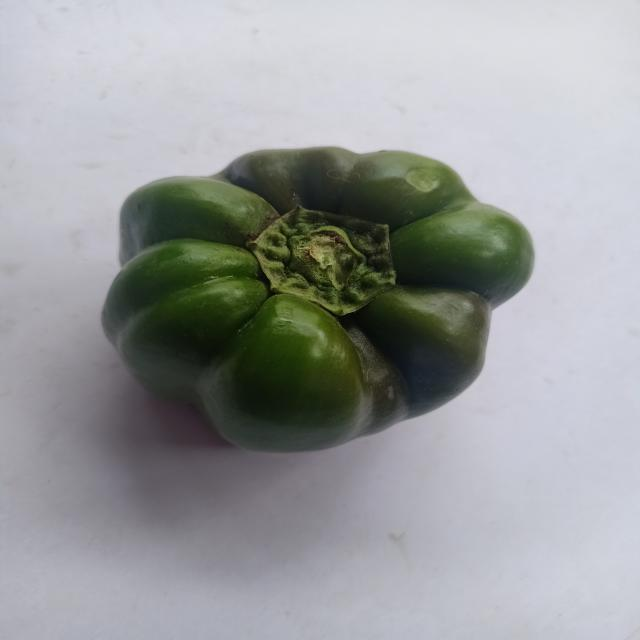Capsicum: (103, 133, 548, 460)
